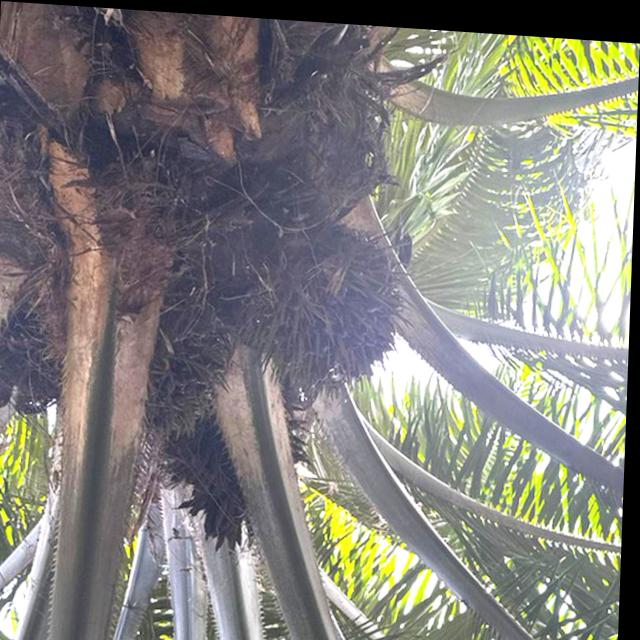ripe: (250, 219, 407, 399), (130, 295, 237, 449)
